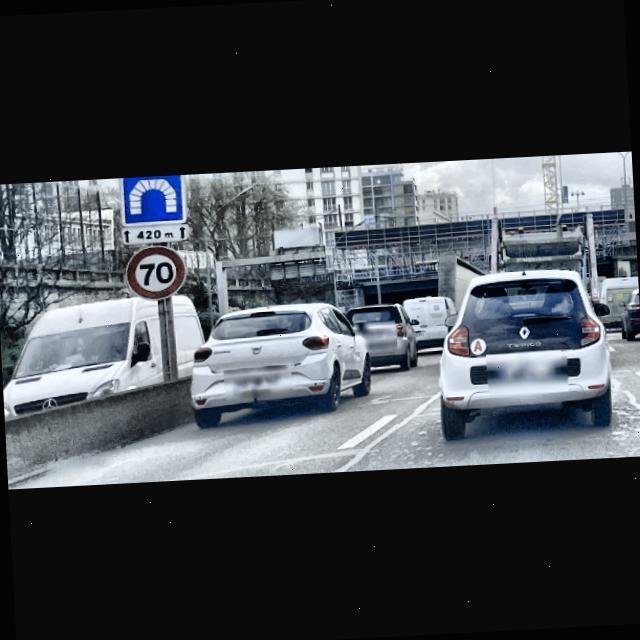speed_70: (122, 243, 190, 300)
